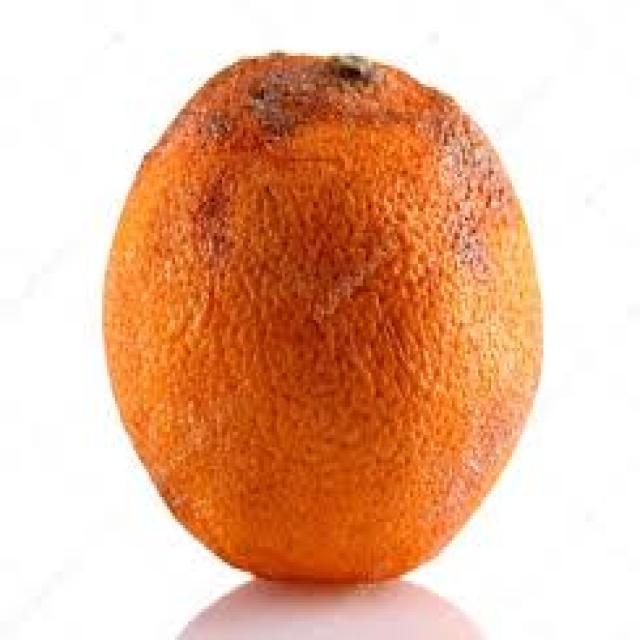overripe: (98, 39, 555, 588)
